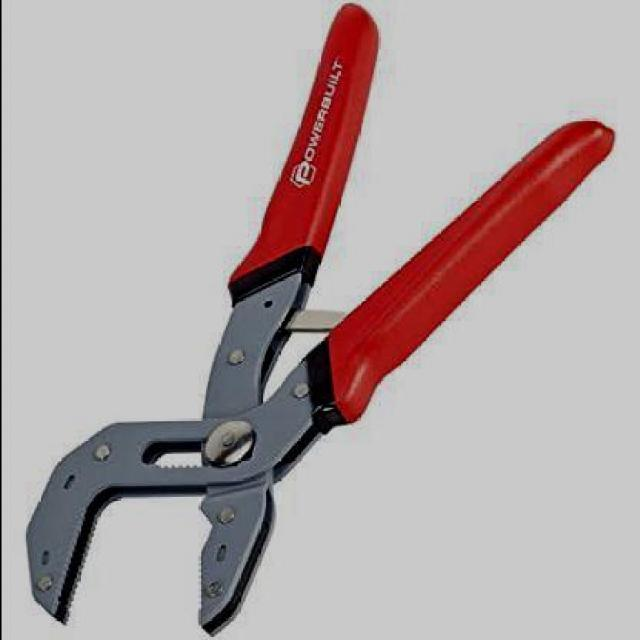pliers: (19, 4, 616, 628)
